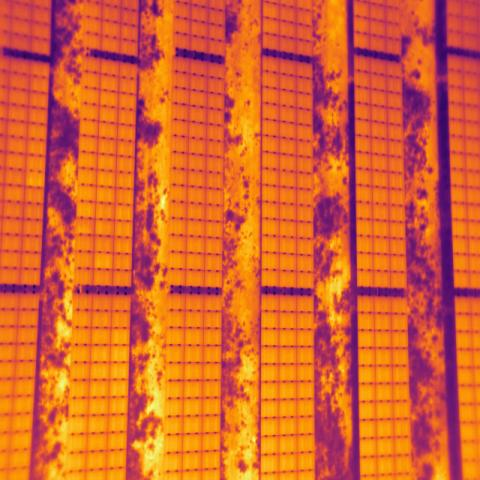fault: (25, 171, 46, 189), (93, 253, 114, 269)
